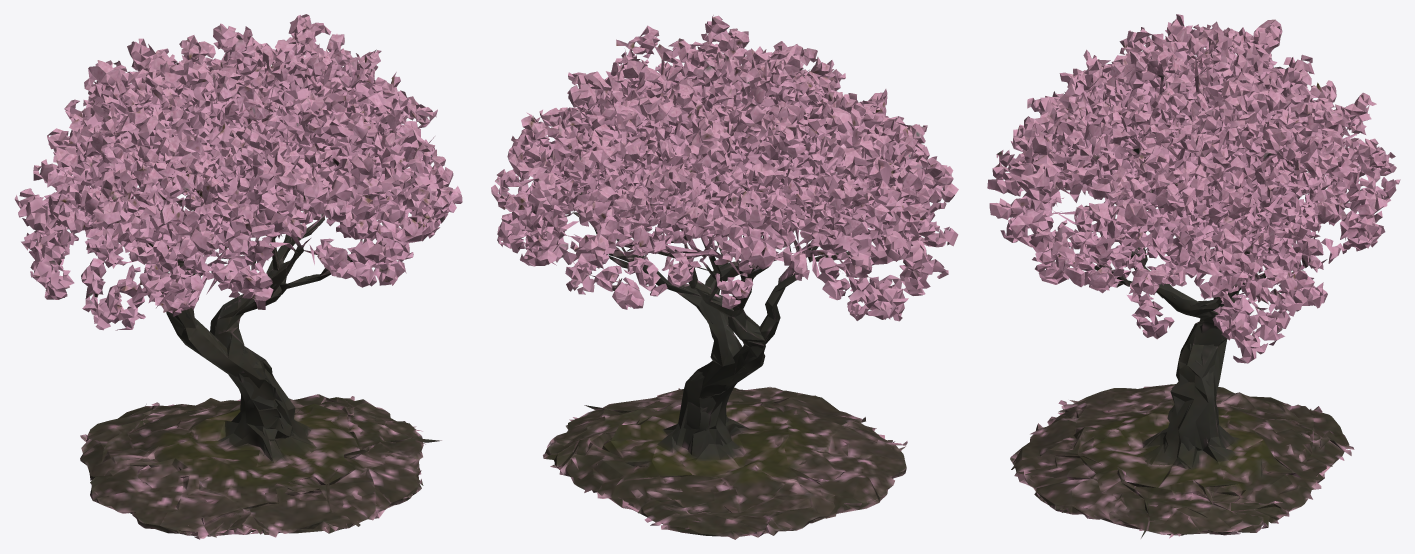
The model's file is sakura_young.glb.
The picture shows the model from 3 angles, left to right: view 1: azimuth 30°, elevation 25°; view 2: azimuth 150°, elevation 25°; view 3: azimuth 270°, elevation 25°; orthographic projection. The views are drawn at different scales.
Visible parts, largest first — view 1: Mesh_0; view 2: Mesh_0; view 3: Mesh_0.
Part boxes in pixels (x1,y1,x2,y2): Mesh_0: (14,14,462,539); Mesh_0: (491,15,958,539); Mesh_0: (987,14,1400,538).
Size of the model in its own units: 5.68 by 5.5 by 4.85.
1 material, 1 textured.
